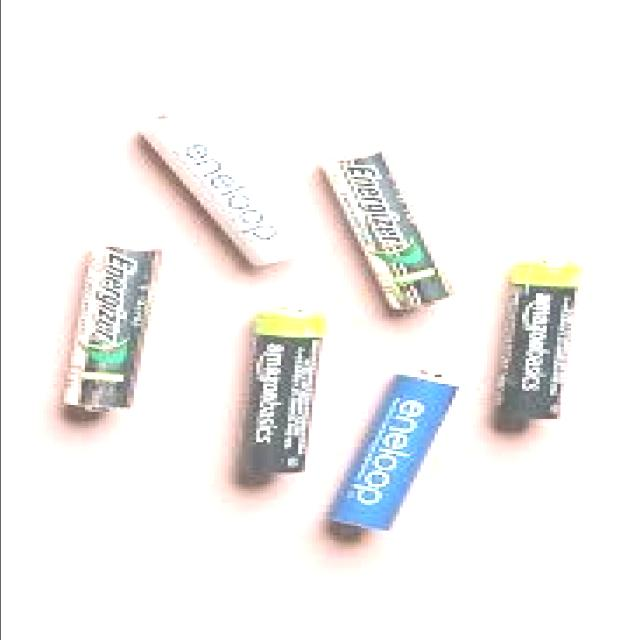AA: (127, 106, 322, 271), (313, 142, 460, 313), (318, 365, 465, 534), (58, 241, 166, 418), (486, 254, 590, 422), (233, 303, 329, 475)
